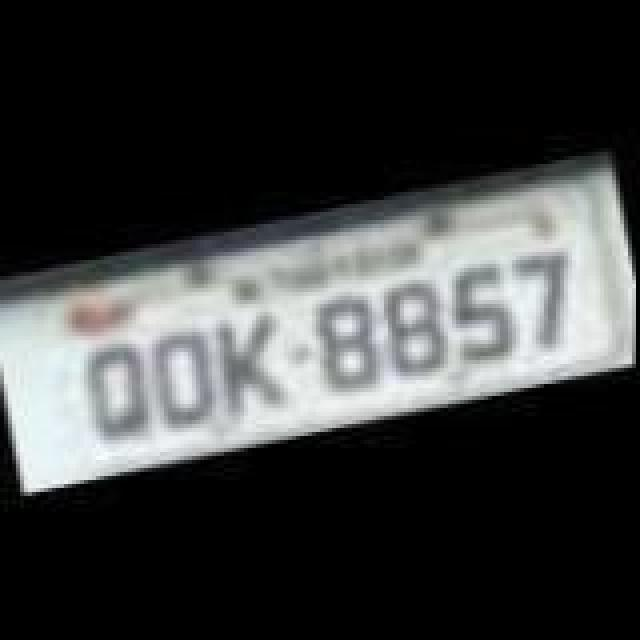5: (438, 256, 530, 372)
7: (502, 242, 586, 350)
8: (306, 284, 390, 396), (372, 270, 452, 382)
K: (206, 308, 298, 424)
O: (140, 318, 232, 438)
Q: (80, 330, 164, 446)
